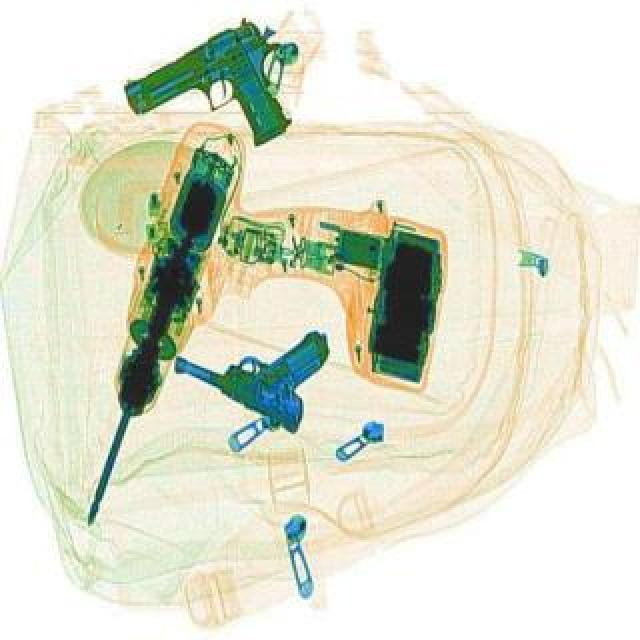gun: (114, 18, 322, 192), (164, 284, 348, 440)
